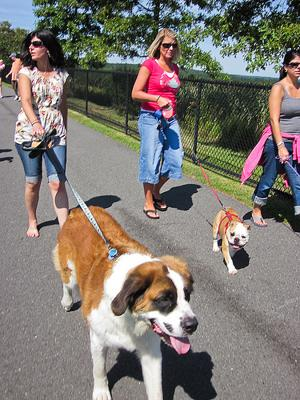person: (132, 29, 184, 218)
